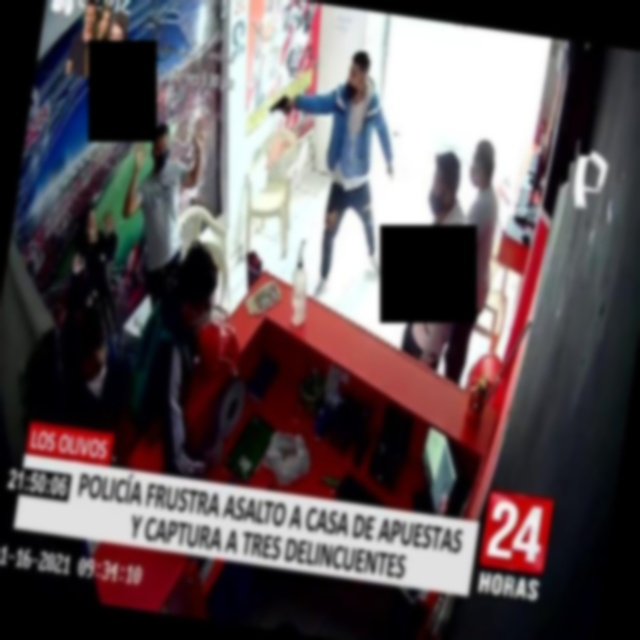gun: (260, 80, 299, 131)
